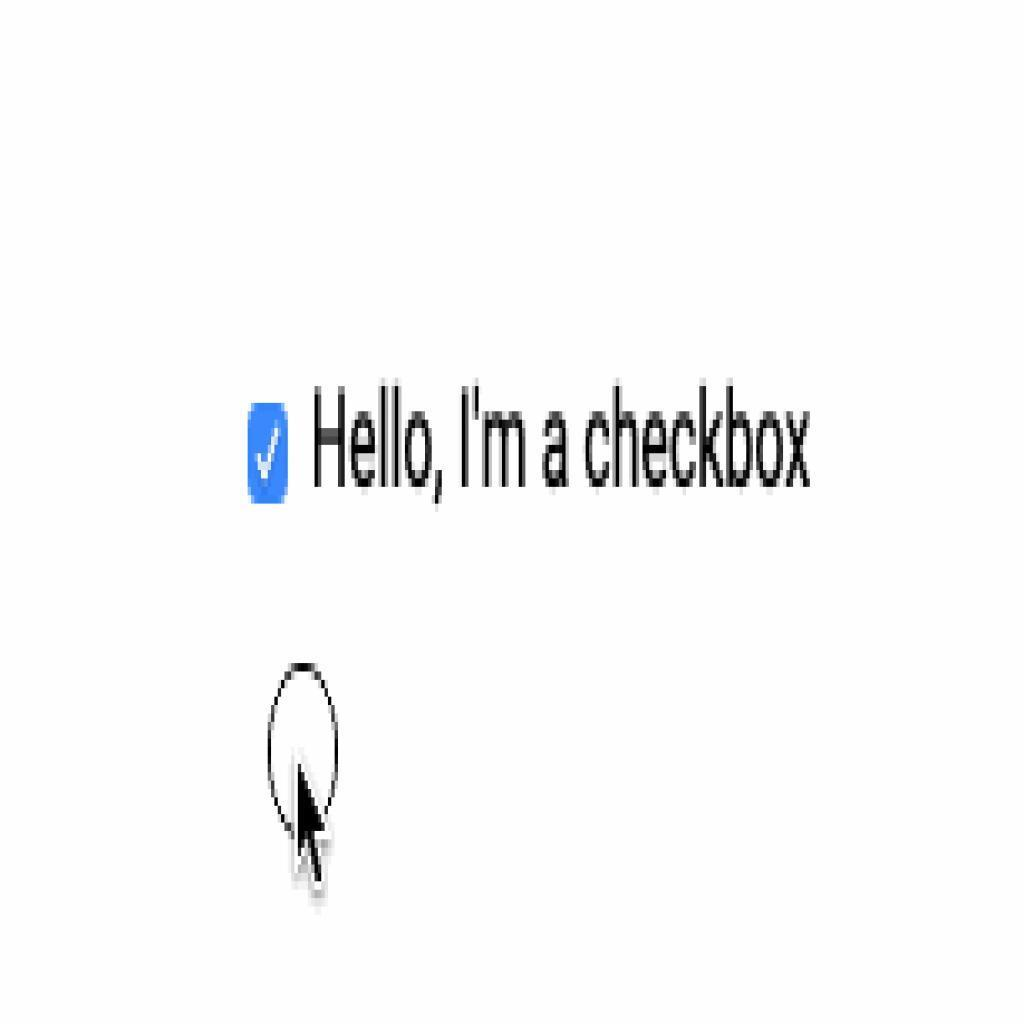checkbox: (248, 404, 290, 504)
label: (307, 380, 818, 508)
